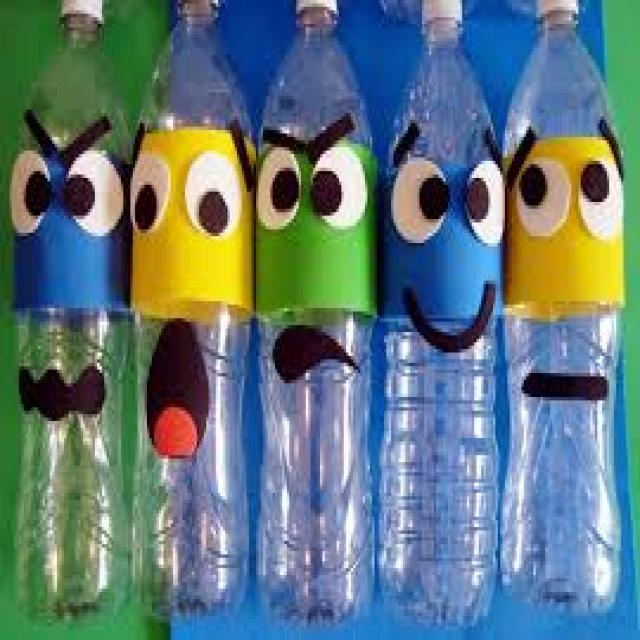bottom: (502, 485, 626, 623), (371, 525, 495, 633), (252, 537, 379, 631), (124, 535, 251, 626), (9, 554, 137, 636)
cap: (405, 0, 476, 51), (53, 0, 106, 41), (285, 0, 346, 34), (158, 0, 225, 30), (531, 0, 585, 34)
